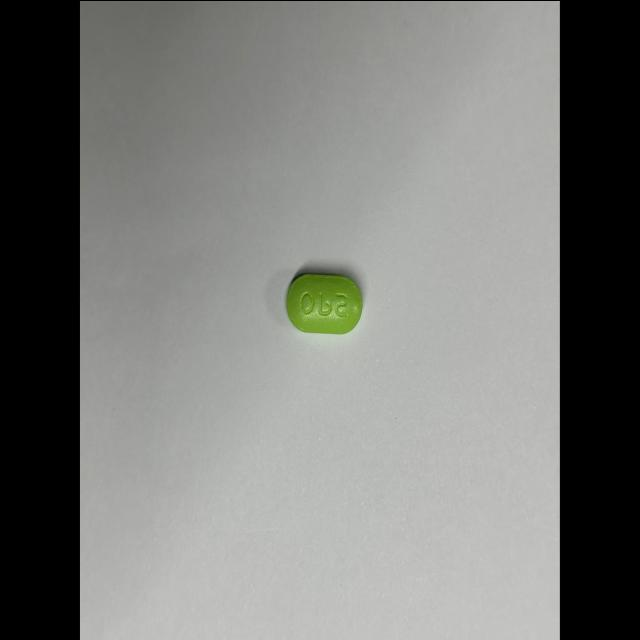Piller: (286, 273, 362, 333)
